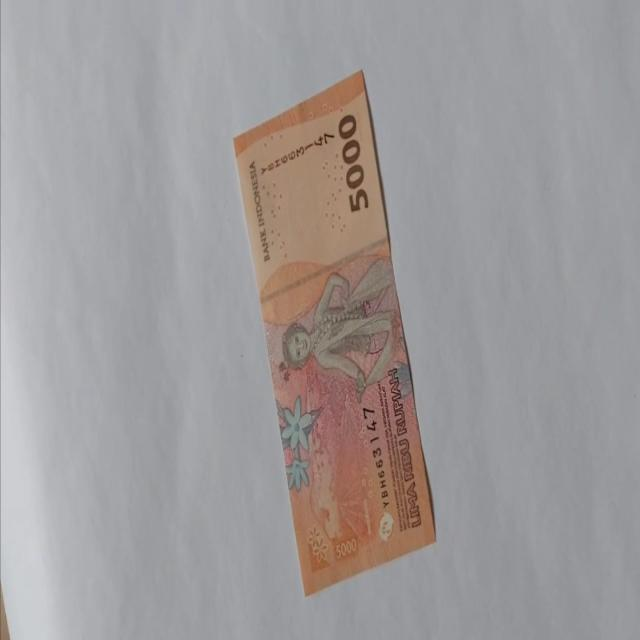lima ribu rupiah: (231, 69, 437, 596)
